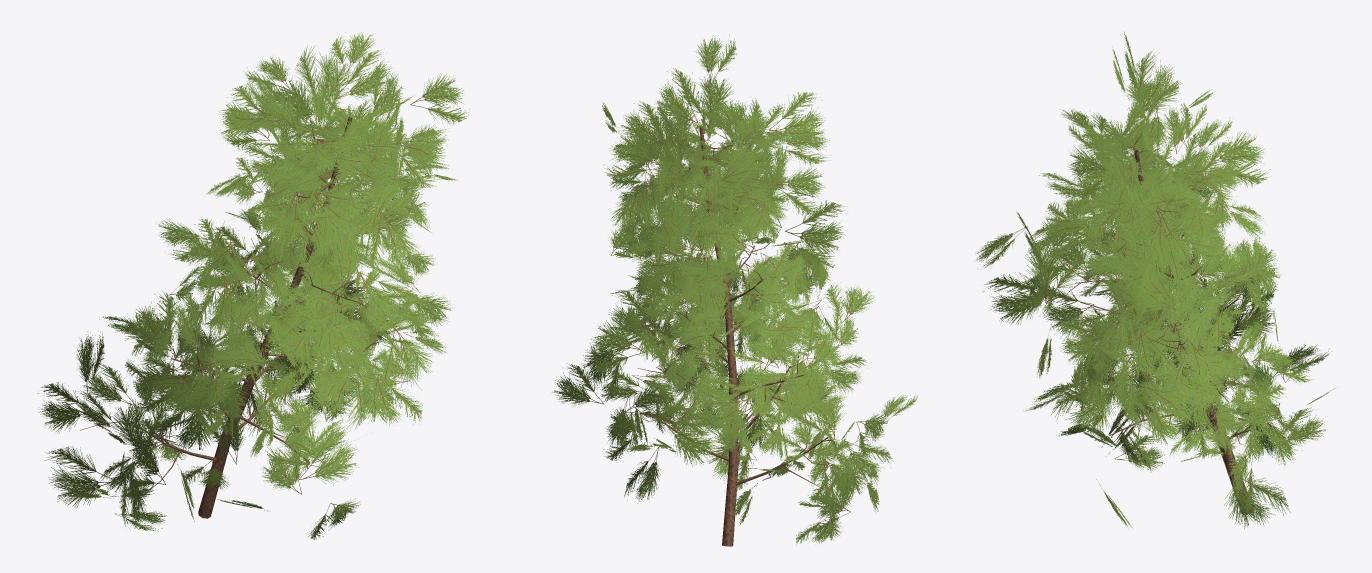
The model's file is AP1_AleppoPine_Young_4m.glb.
The picture shows the model from 3 angles, left to right: view 1: azimuth 30°, elevation 25°; view 2: azimuth 150°, elevation 25°; view 3: azimuth 270°, elevation 25°; orthographic projection. The views are drawn at different scales.
Parts seen in each view (by area): view 1: AP1_leaves, AP1_wood; view 2: AP1_leaves, AP1_wood; view 3: AP1_leaves, AP1_wood.
Part boxes in pixels (bbox=[...]): AP1_leaves: bbox=[37, 32, 469, 539]; AP1_wood: bbox=[80, 117, 412, 518]; AP1_leaves: bbox=[552, 35, 917, 545]; AP1_wood: bbox=[633, 127, 839, 546]; AP1_leaves: bbox=[974, 31, 1335, 528]; AP1_wood: bbox=[1061, 135, 1260, 514].
Bounding box in the file's own units: 3.18 × 4.1 × 2.82.
Materials: 2 (2 with a texture image).
